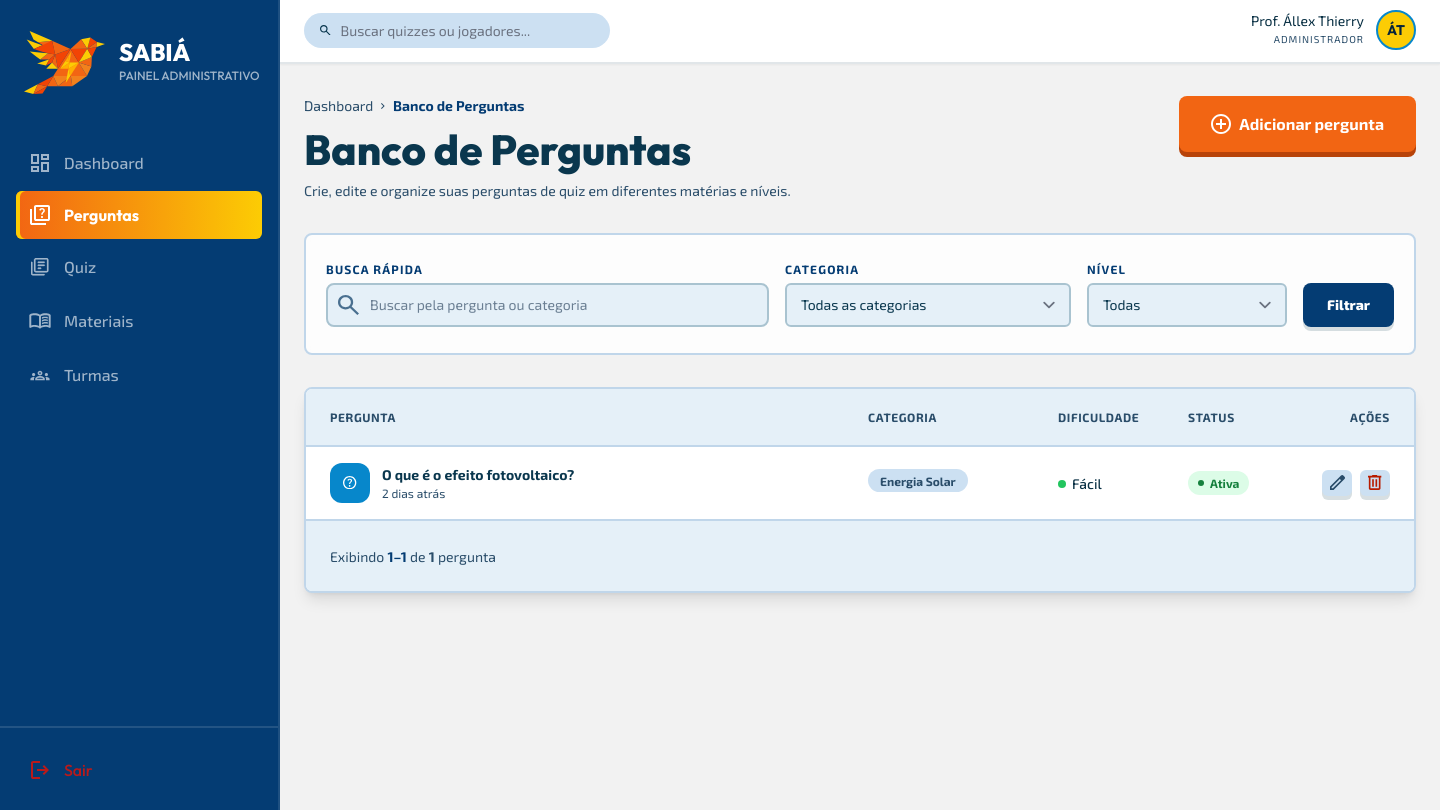
Scenario: Banco de perguntas › exclui a pergunta depois de confirmar
This screenshot has width=1440, height=810.
Click the button named "Excluir: O que é o efeito fotovoltaico?": (1375, 483) top-left (1360, 470), bottom-right (1390, 496)
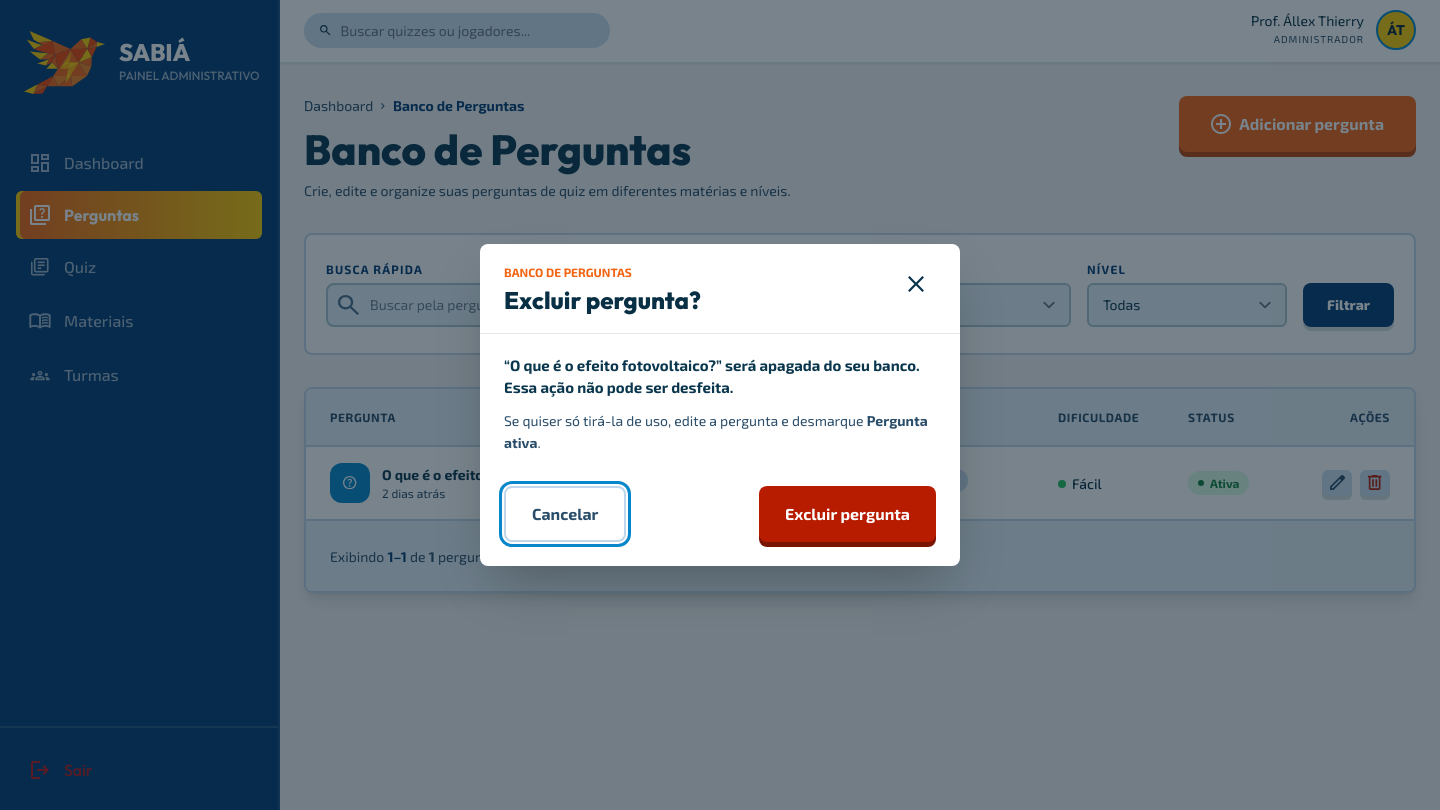
Check: the dialog "Excluir pergunta?" shows "“O que é o efeito fotovoltaico?” será apagada", box top-left (480, 244), bottom-right (960, 566)
Click the button "Excluir pergunta": (848, 514) top-left (759, 486), bottom-right (936, 542)
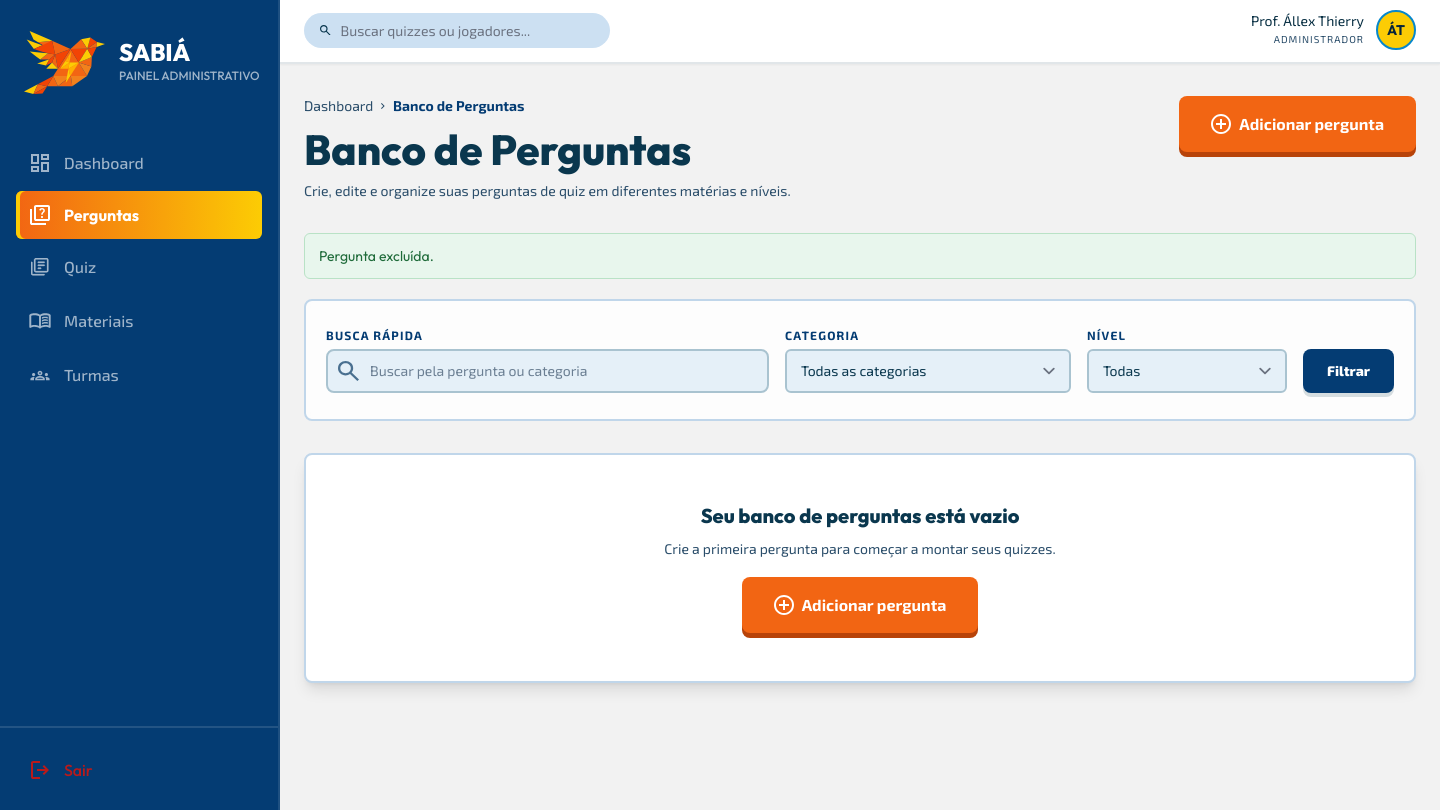
Check: the text "Pergunta excluída." is shown, box top-left (304, 233), bottom-right (1416, 279)
Check: the dialog is gone
Check: the text "Seu banco de perguntas está vazio" is shown, box top-left (701, 503), bottom-right (1019, 528)
